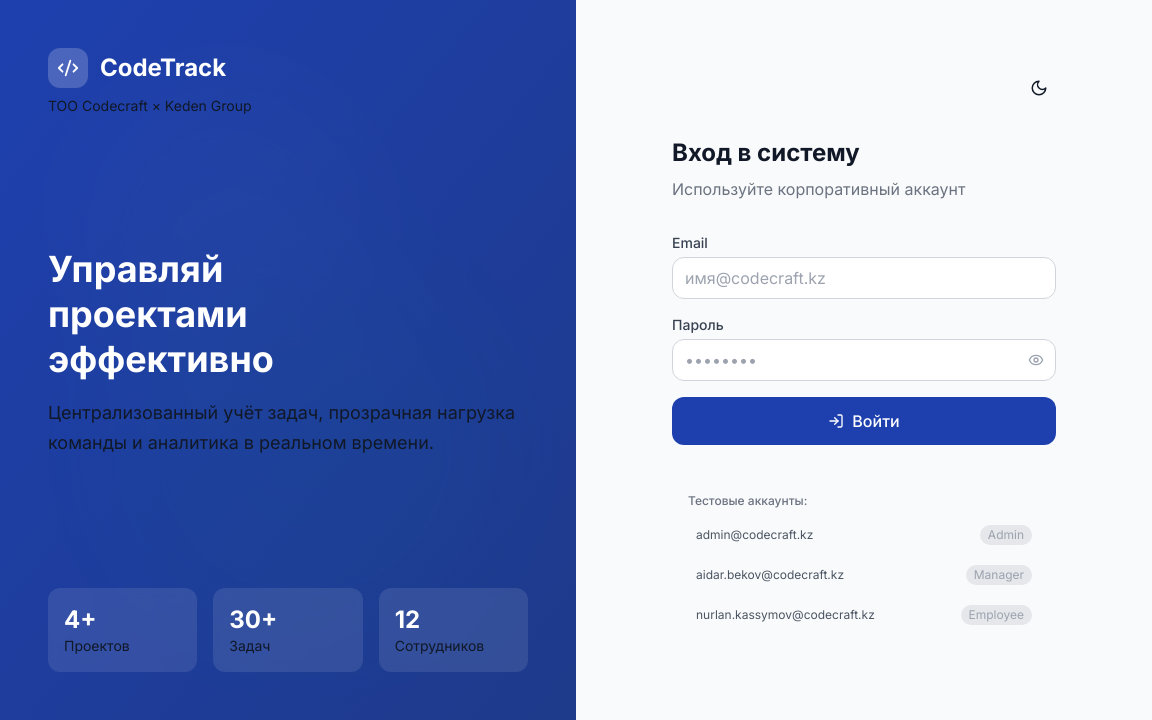
Test: Login page › показывает ошибку при отправке пустой формы
What coordinates should you click on to do the following:
click the button "Войти"
I would click on:
 (864, 421)
Its box is [672,397,1056,445].
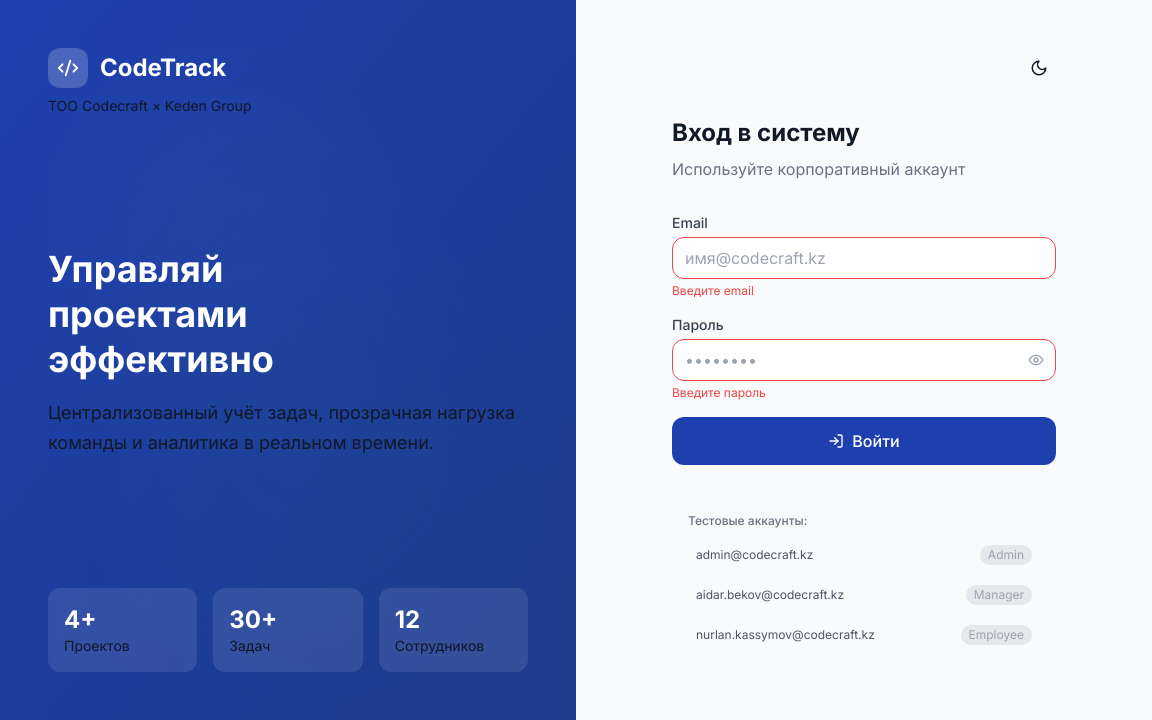
Check: the text "Введите email" is shown, box [672,283,754,298]
